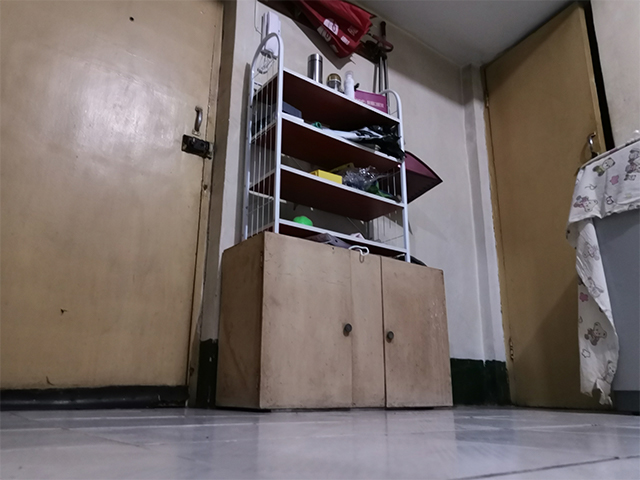cabinet: (213, 228, 455, 414)
